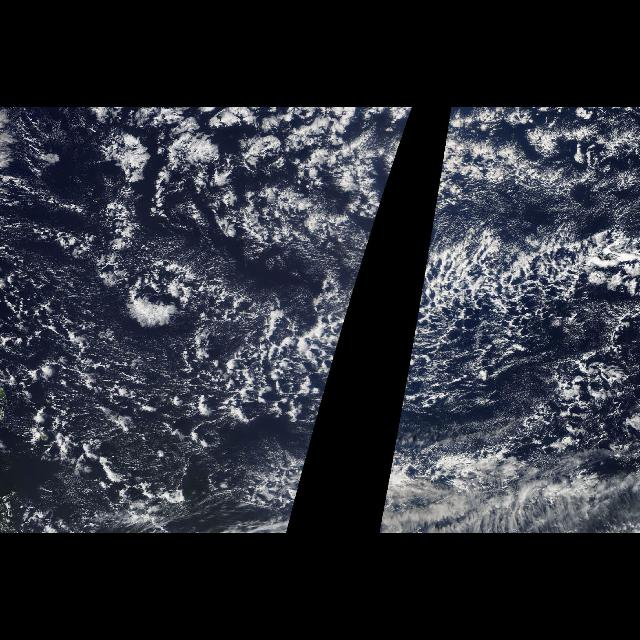Fish: (402, 222, 628, 406), (200, 227, 374, 451)
Flower: (82, 109, 362, 190)
Gravel: (0, 259, 320, 507), (424, 222, 638, 412)
Sugar: (434, 110, 638, 240)
